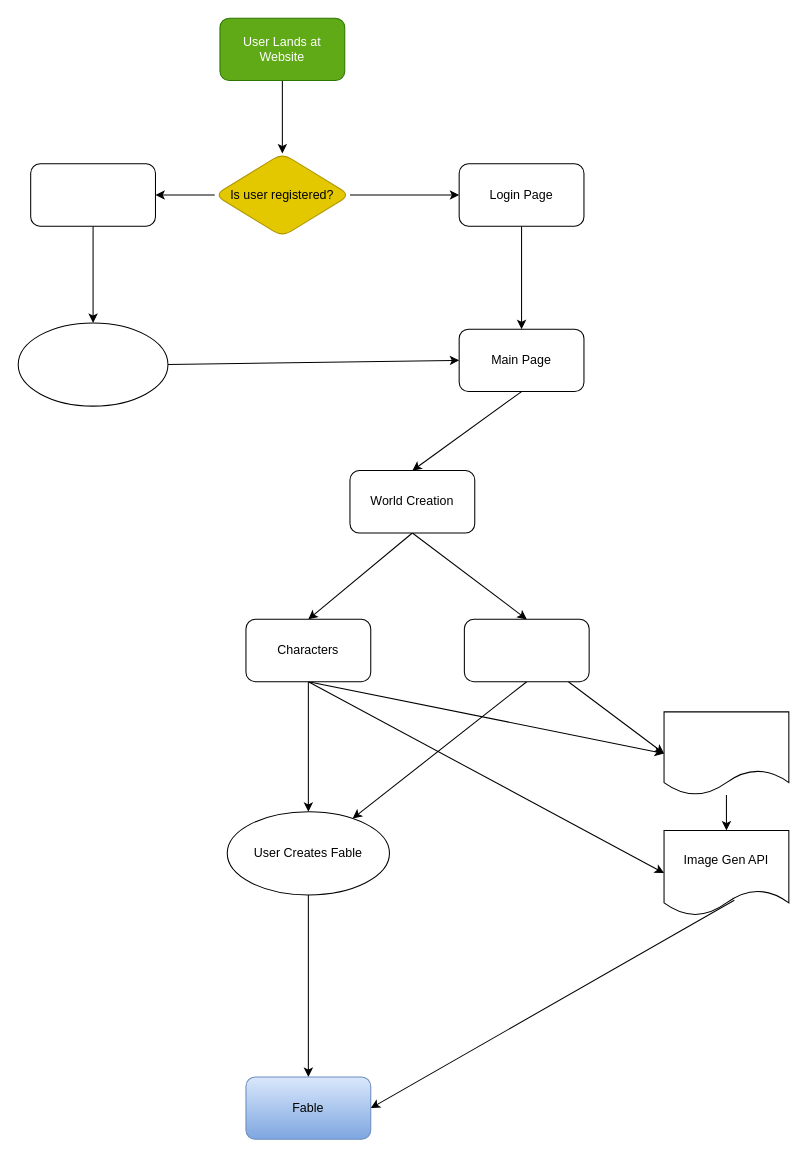
This 807x1158 diagram has some shape labels left out. Each missing label, with the centre of its shape:
"Registration Page" belongs at [92,194].
"Story Gen API" belongs at [726,753].
"Storylines" belongs at [526,650].
"User Registers" belongs at [92,364].
